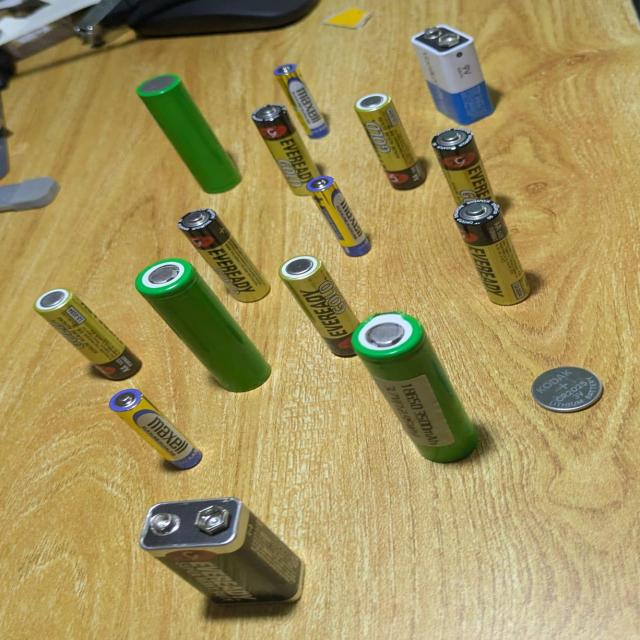9V: (139, 492, 321, 615), (404, 19, 507, 124)
AA: (33, 280, 147, 386), (174, 200, 277, 313), (275, 251, 375, 366), (452, 198, 532, 308), (242, 99, 330, 195), (357, 88, 430, 190), (426, 120, 506, 210)
AAA: (106, 387, 210, 478), (304, 171, 374, 253), (274, 56, 336, 140)
COIN: (524, 359, 613, 416)
